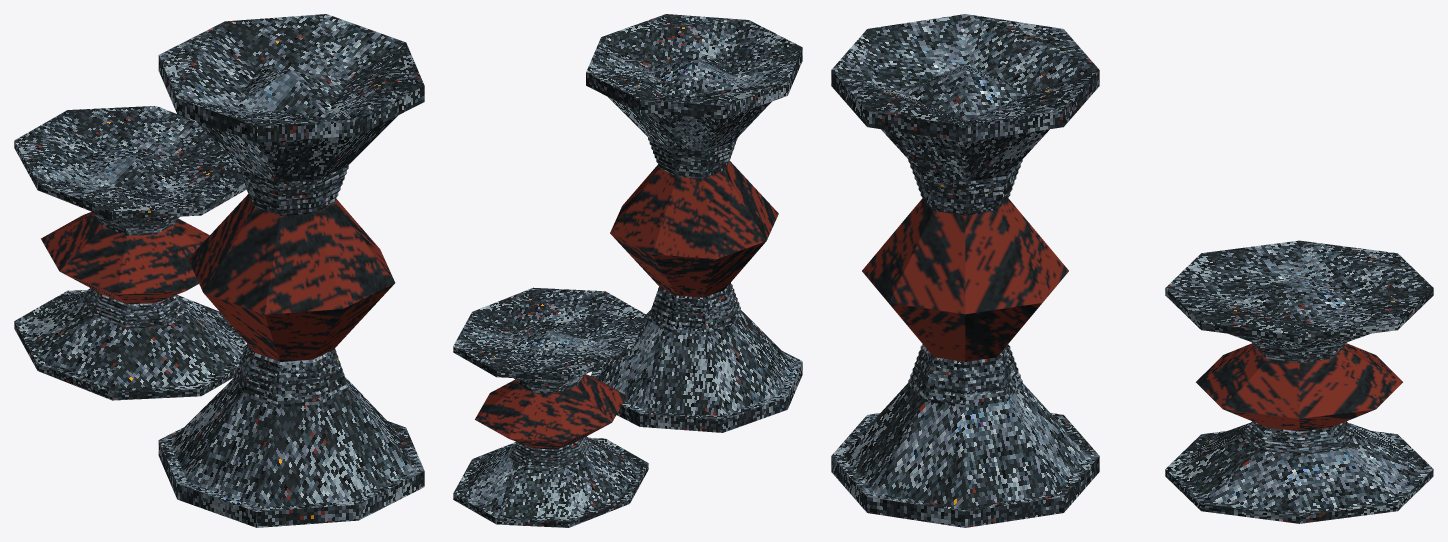
File: Generator.fbx
3 views of the same model, side by side, from view 1: azimuth 30°, elevation 25°; view 2: azimuth 150°, elevation 25°; view 3: azimuth 270°, elevation 25° (orthographic). The views are drawn at different scales.
Parts seen in each view (by area): view 1: genPillar, genPillarSmall; view 2: genPillar, genPillarSmall; view 3: genPillar, genPillarSmall.
Part boxes in pixels (bbox=[...]): genPillar: bbox=[158, 14, 424, 527]; genPillarSmall: bbox=[14, 106, 246, 400]; genPillar: bbox=[586, 14, 802, 432]; genPillarSmall: bbox=[453, 287, 648, 527]; genPillar: bbox=[831, 14, 1099, 527]; genPillarSmall: bbox=[1165, 240, 1433, 523].
Bounding box in the file's own units: 638 × 1450 × 1068.
2 materials, 2 textured.
